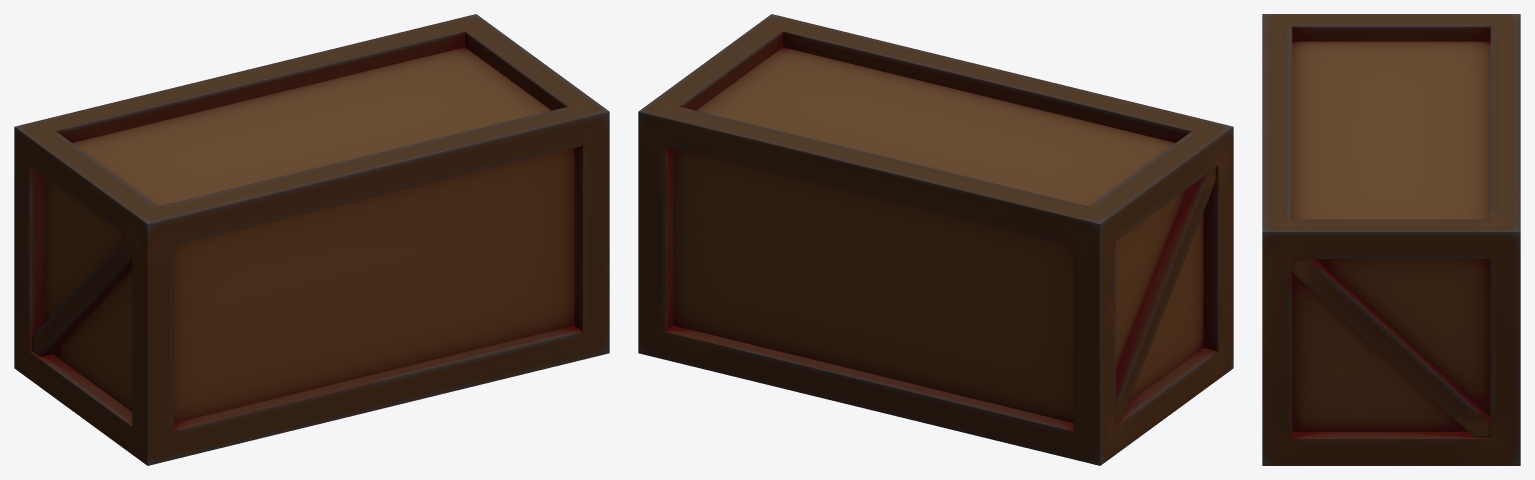
File: kutu2.fbx
3 renders of one model, left to right at view 1: azimuth 30°, elevation 25°; view 2: azimuth 150°, elevation 25°; view 3: azimuth 270°, elevation 25°, orthographic. The views are drawn at different scales.
Parts seen in each view (by area): view 1: Cube.037; view 2: Cube.037; view 3: Cube.037.
Boxes of the visible parts, x1,y1,x2,y2 form: Cube.037: (14,14,609,465); Cube.037: (638,14,1233,465); Cube.037: (1262,14,1520,465).
Bounding box in the file's own units: 400 × 200 × 200.
